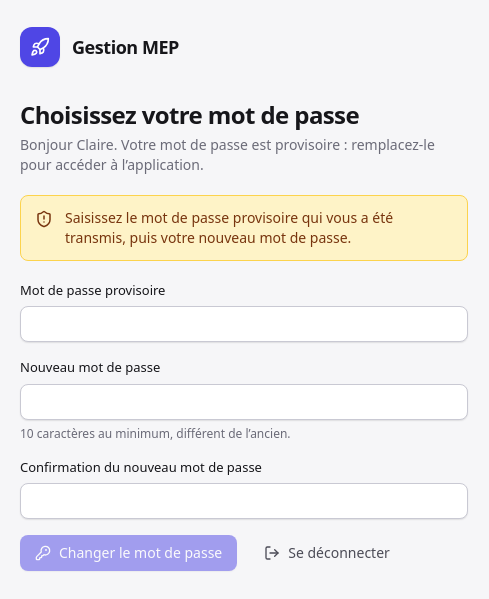
Test: Mot de passe provisoire › exige 10 caractères et une confirmation identique
The width and height of the screenshot is (489, 599).
Type "prov" into the password field labelled "Mot de passe provisoire" at (244, 324), box x1=20 y1=306 x2=468 y2=342
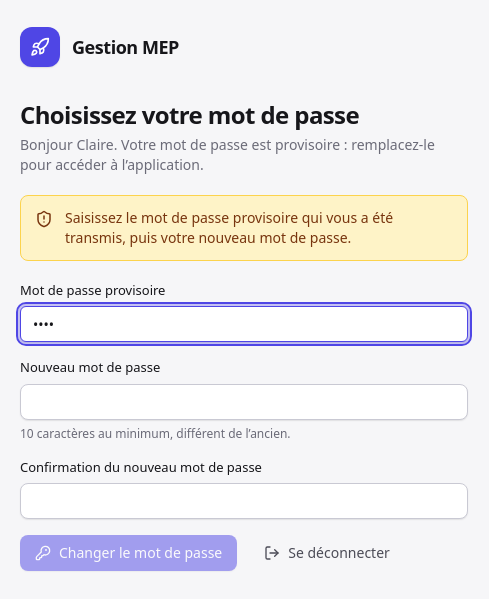
Type "court" into the password field labelled "Nouveau mot de passe" at (244, 402), box x1=20 y1=384 x2=468 y2=420
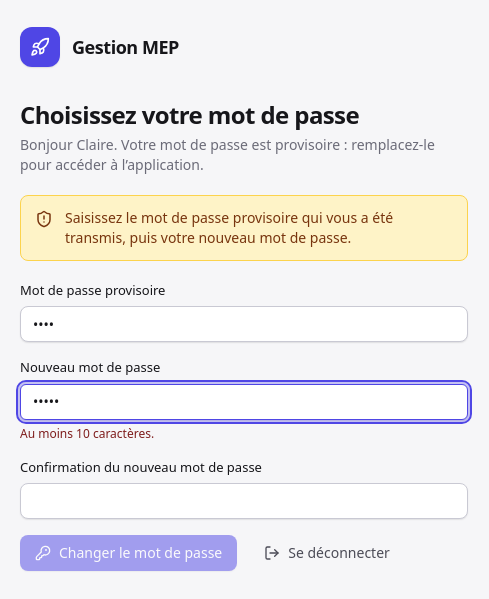
Expected: the button "Changer le mot de passe" is disabled, x1=20 y1=535 x2=237 y2=571
Expected: the text "Au moins 10 caractères." is shown, x1=20 y1=425 x2=154 y2=442
Type "assez-long-1" into the password field labelled "Nouveau mot de passe" at (244, 402), box x1=20 y1=384 x2=468 y2=420
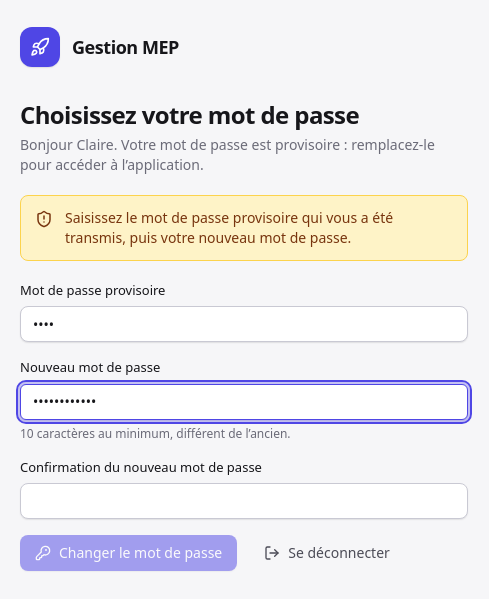
Type "autre-chose-1" into the password field labelled "Confirmation du nouveau mot de passe" at (244, 501), box x1=20 y1=483 x2=468 y2=519
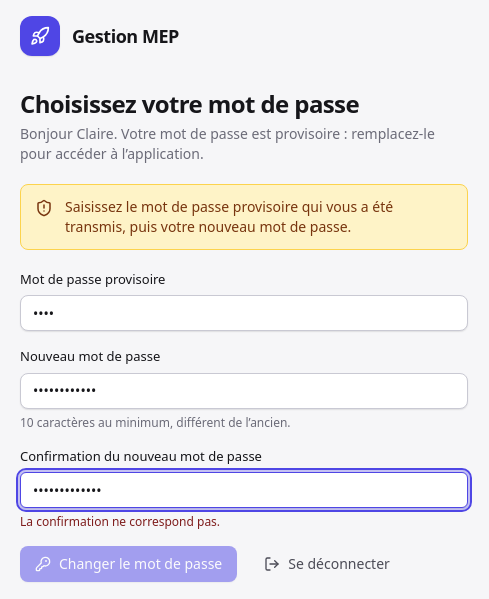
Expected: the button "Changer le mot de passe" is disabled, x1=20 y1=546 x2=237 y2=582
Expected: the text "La confirmation ne correspond pas." is shown, x1=20 y1=513 x2=220 y2=530
